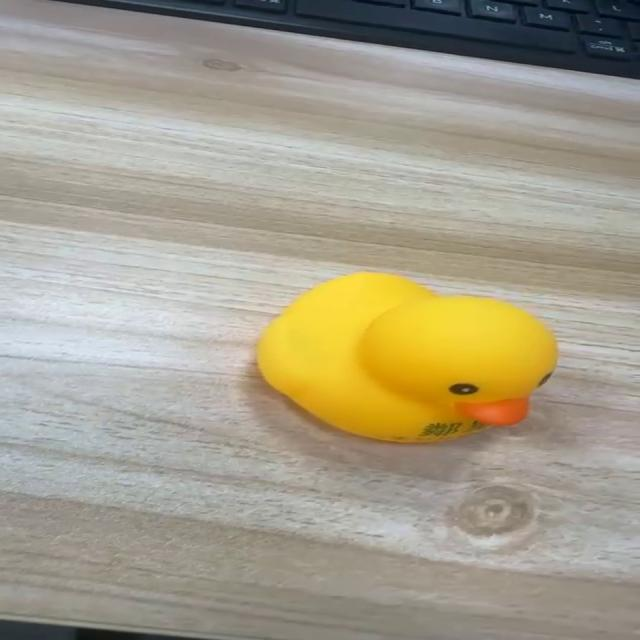yellow_duck: (253, 269, 560, 444)
